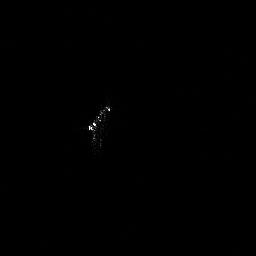ship: (86, 104, 112, 152)
